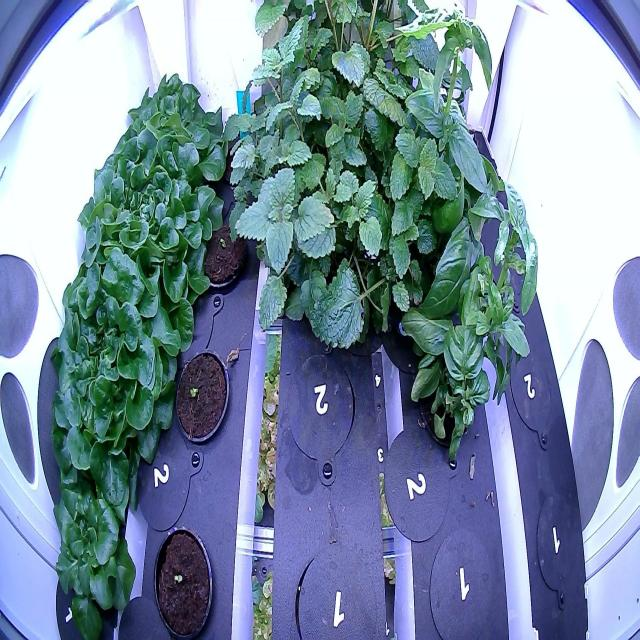empty_pod: (285, 536, 381, 639), (284, 346, 359, 468), (424, 524, 500, 638), (507, 339, 559, 461), (532, 486, 580, 607)
germination: (149, 517, 216, 637), (168, 342, 232, 450), (194, 208, 248, 297)
